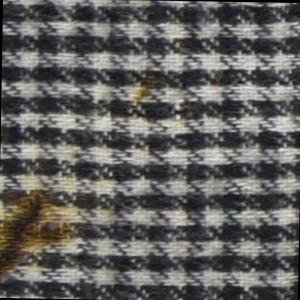Damage: (1, 188, 79, 281)
Oil Stain: (1, 69, 199, 292)
